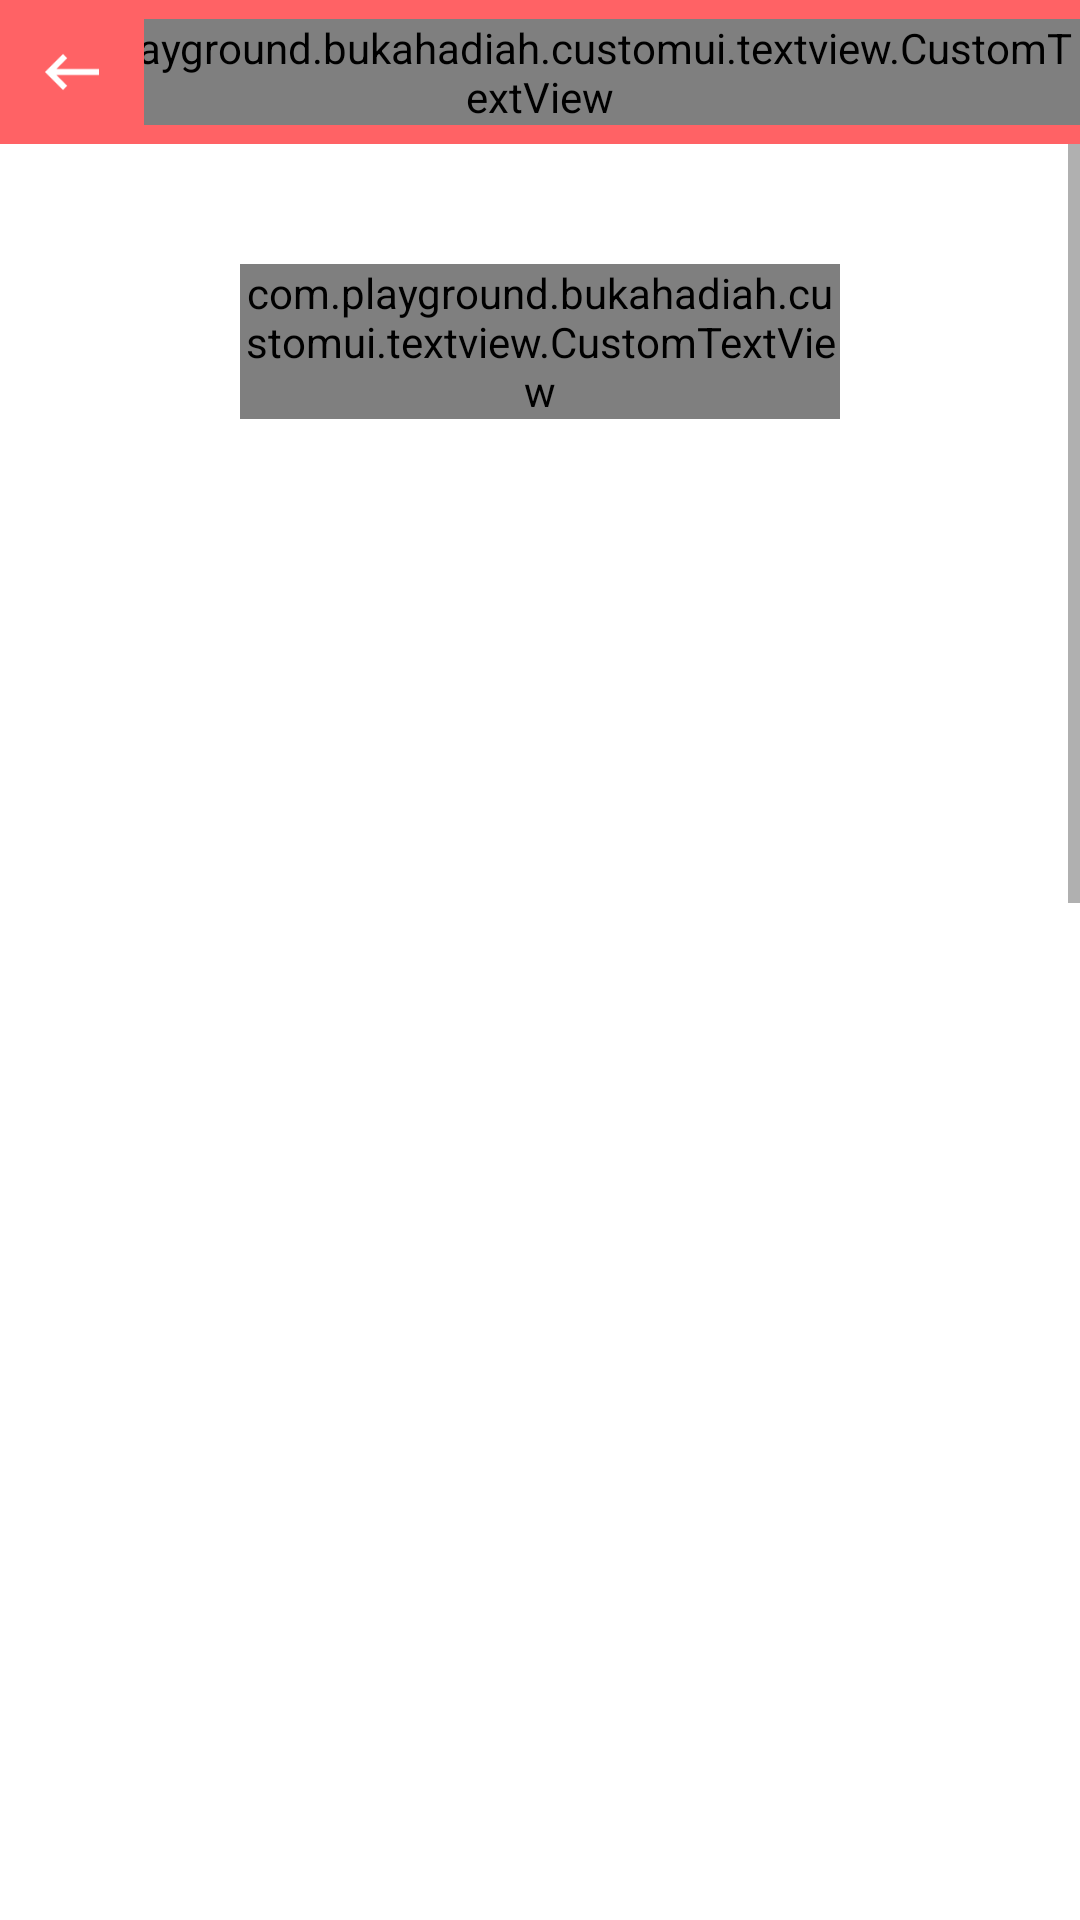

Named icons in this screenshot (1080px x 1920px) and their centers, [x,y]:
back: [72,72]
